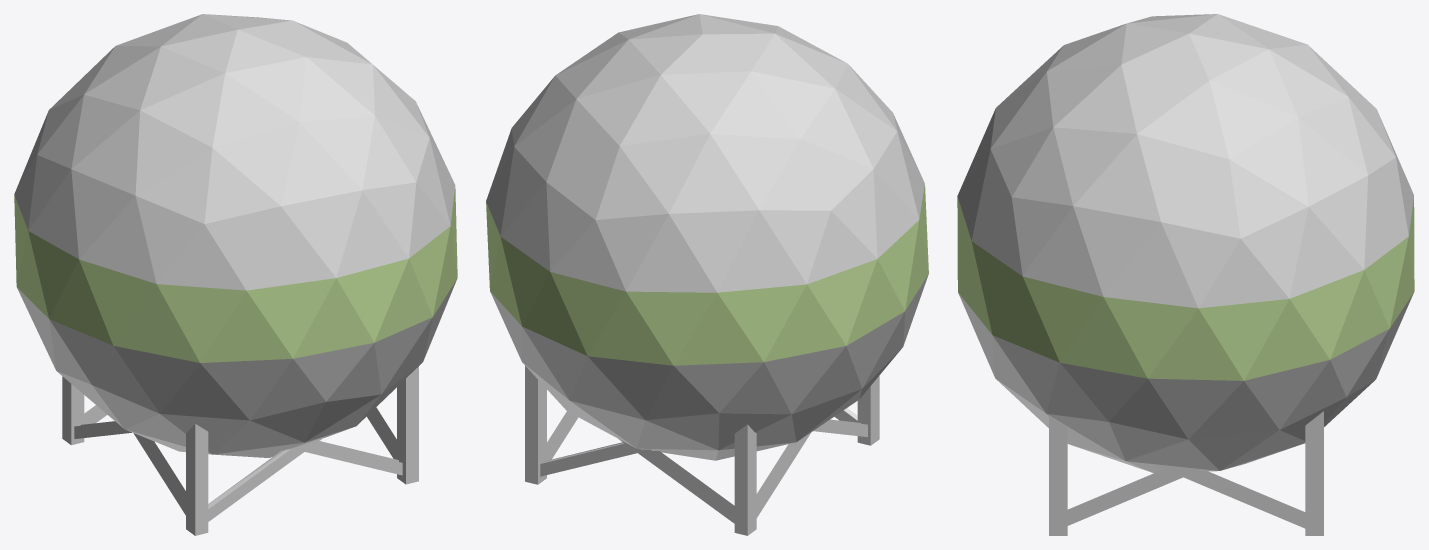
3 renders of one model, left to right at view 1: azimuth 30°, elevation 25°; view 2: azimuth 150°, elevation 25°; view 3: azimuth 270°, elevation 25°, orthographic. The views are drawn at different scales.
Parts seen in each view (by area): view 1: Sphere_5; view 2: Sphere_5; view 3: Sphere_5.
Part boxes in pixels (x1,y1,x2,y2): Sphere_5: [14, 14, 457, 535]; Sphere_5: [486, 14, 928, 535]; Sphere_5: [957, 14, 1414, 535].
Bounding box in the file's own units: 537 × 572 × 533.
